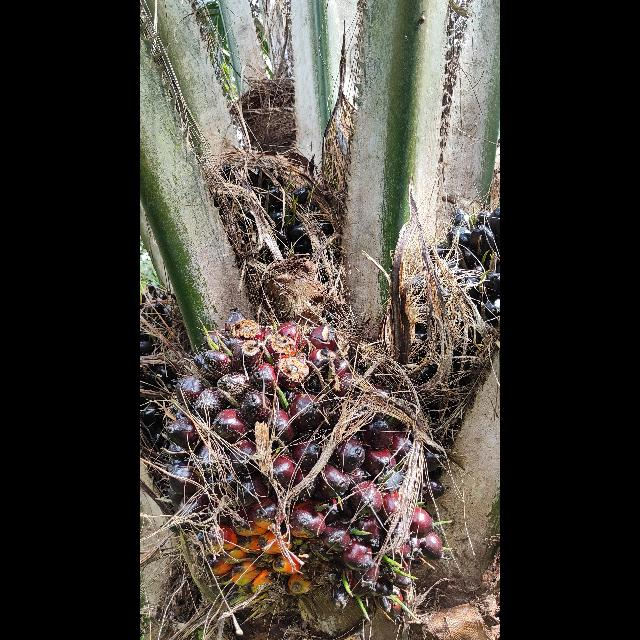Ripe: (166, 315, 440, 613)
